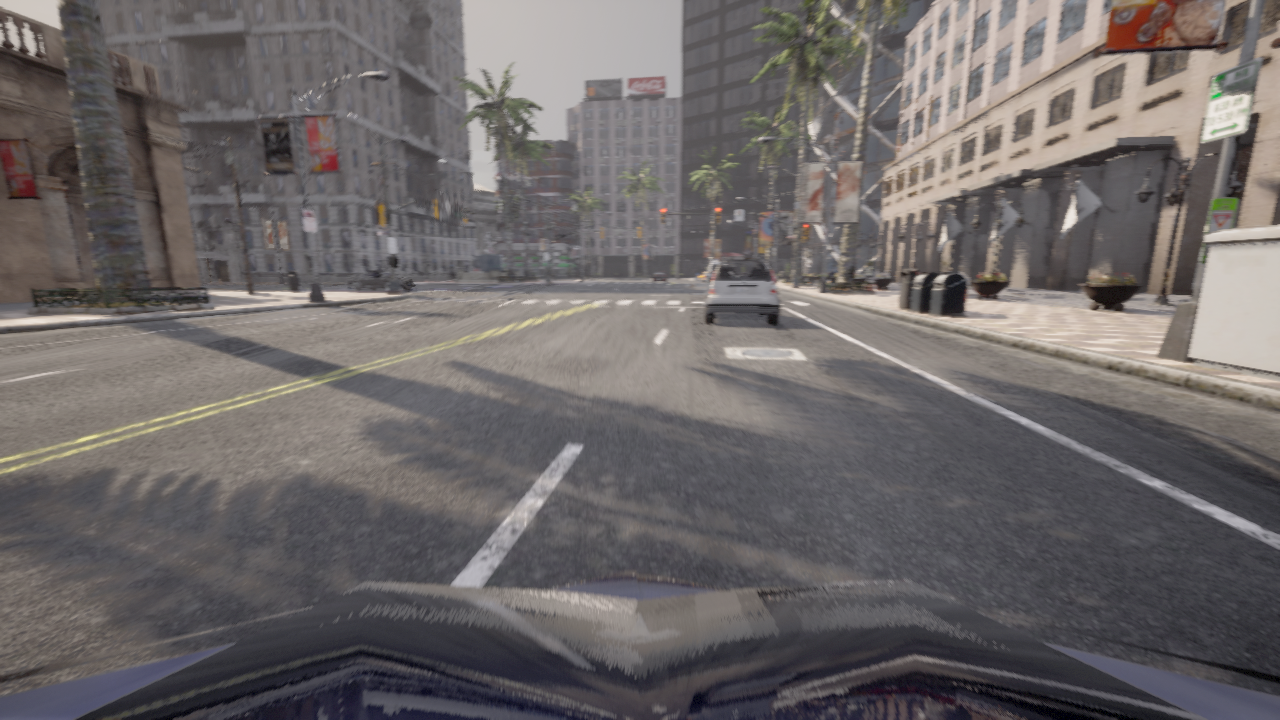cyclist: (0, 569, 1279, 719), (705, 257, 779, 324), (348, 271, 416, 290), (652, 271, 667, 282), (707, 261, 719, 272), (697, 271, 707, 281), (708, 279, 710, 288)
